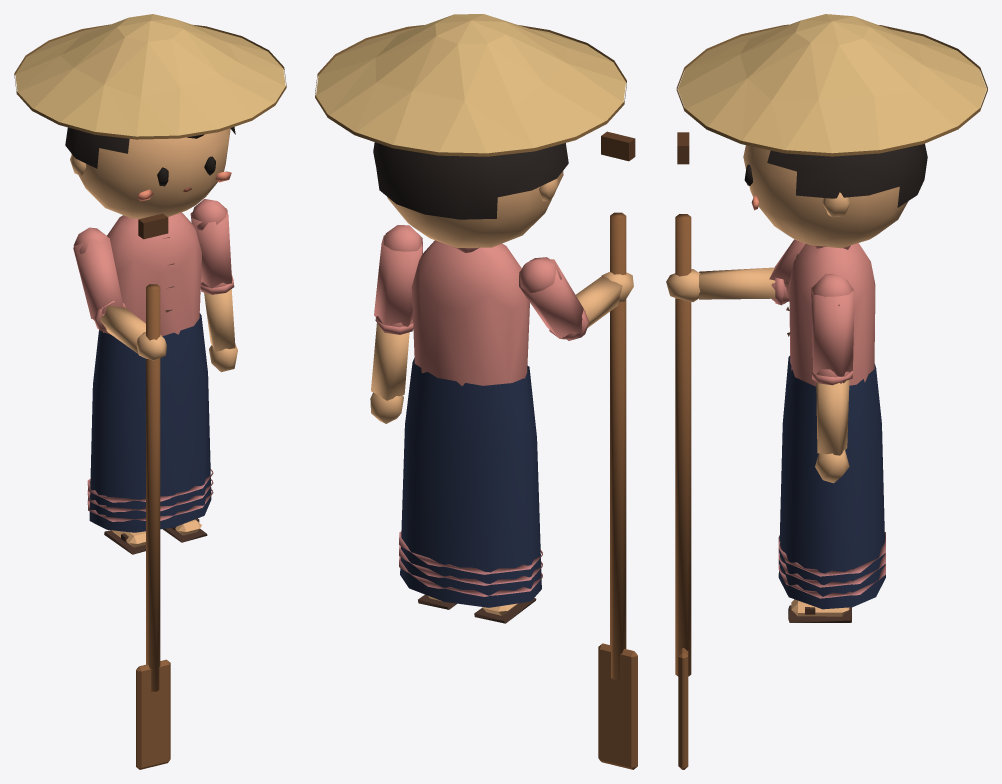
The model's file is central_boat_vendor.glb.
3 renders of one model, left to right at view 1: azimuth 30°, elevation 25°; view 2: azimuth 150°, elevation 25°; view 3: azimuth 270°, elevation 25°, orthographic. The views are drawn at different scales.
Parts seen in each view (by area): view 1: head, body, prop_paddle, arm_R, arm_L, forearm_L, forearm_R, shin_R, shin_L; view 2: head, body, prop_paddle, arm_L, arm_R, forearm_L, forearm_R, shin_R; view 3: head, body, prop_paddle, arm_L, forearm_L, forearm_R, shin_L, arm_R.
Boxes of the visible parts, x1,y1,x2,y2 form: head: (14, 14, 286, 218); body: (87, 212, 213, 532); prop_paddle: (136, 213, 170, 769); arm_R: (73, 227, 123, 329); arm_L: (190, 199, 233, 288); forearm_L: (200, 274, 237, 372); forearm_R: (93, 301, 166, 360); shin_R: (104, 530, 145, 554); shin_L: (162, 518, 207, 542); head: (315, 14, 626, 247); body: (399, 240, 542, 607); prop_paddle: (598, 131, 637, 769); arm_L: (374, 225, 422, 327); arm_R: (519, 257, 585, 339); forearm_L: (370, 319, 413, 423); forearm_R: (563, 272, 633, 340); shin_R: (474, 598, 536, 623); head: (676, 14, 987, 248); body: (778, 243, 885, 609); prop_paddle: (675, 132, 691, 769); arm_L: (811, 273, 854, 383); forearm_L: (811, 370, 852, 483); forearm_R: (666, 266, 787, 305); shin_L: (788, 599, 851, 622); arm_R: (769, 239, 805, 304).
Size of the model in its own units: 0.7702 by 2.12 by 0.7967.
